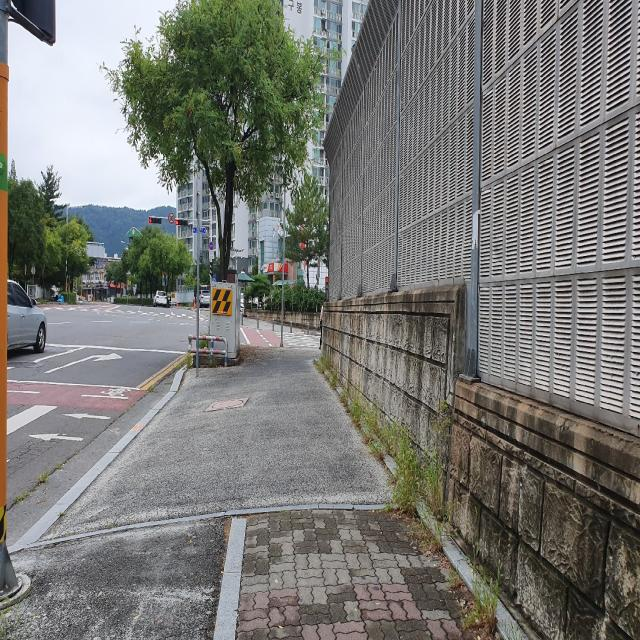횡단보도: (273, 332, 321, 348)
